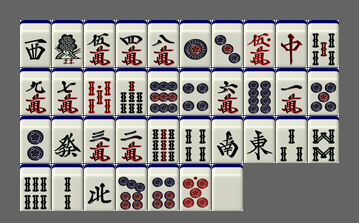0m: (244, 20, 275, 67)
0p: (180, 164, 211, 211)
0s: (84, 68, 115, 115)
1m: (276, 68, 307, 115)
1p: (180, 20, 211, 67)
1s: (52, 20, 83, 67)
1z: (244, 116, 275, 163)
2m: (116, 116, 147, 163)
2p: (20, 116, 51, 163)
2s: (52, 164, 83, 211)
2z: (212, 116, 243, 163)
3m: (84, 116, 115, 163)
3p: (212, 20, 243, 67)
3s: (276, 116, 307, 163)
3z: (20, 20, 51, 67)
4m: (116, 20, 147, 67)
4p: (180, 68, 211, 115)
4s: (180, 116, 211, 163)
4z: (84, 164, 115, 211)
5m: (84, 20, 115, 67)
5p: (308, 68, 339, 115)
5s: (308, 20, 339, 67)
5z: (212, 164, 243, 211)
6m: (212, 68, 243, 115)
6p: (148, 164, 179, 211)
6s: (20, 164, 51, 211)
6z: (52, 116, 83, 163)
7m: (52, 68, 83, 115)
7p: (116, 164, 147, 211)
7s: (116, 68, 147, 115)
7z: (276, 20, 307, 67)
8m: (148, 20, 179, 67)
8p: (244, 68, 275, 115)
8s: (308, 116, 339, 163)
9m: (20, 68, 51, 115)
9p: (148, 68, 179, 115)
9s: (148, 116, 179, 163)
